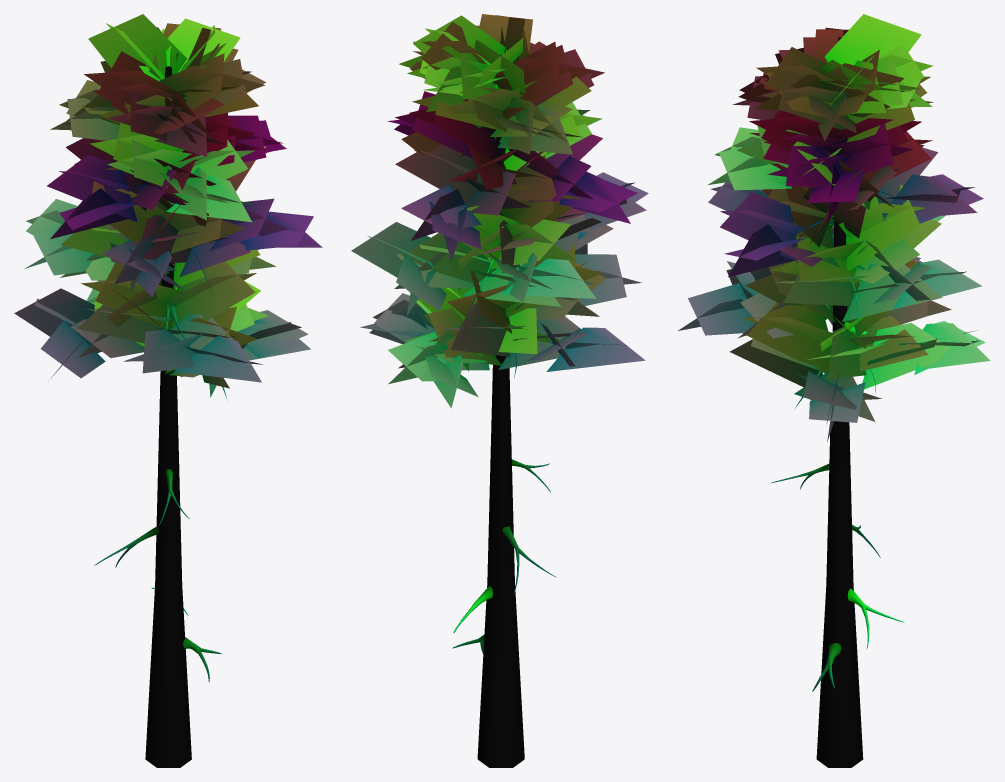
File: M_Pine_1_6.fbx
3 renders of one model, left to right at view 1: azimuth 30°, elevation 25°; view 2: azimuth 150°, elevation 25°; view 3: azimuth 270°, elevation 25°, orthographic.
Parts seen in each view (by area): view 1: Tree_6; view 2: Tree_6; view 3: Tree_6.
Boxes of the visible parts, x1=… form: Tree_6: x1=14, y1=14, x2=322, y2=767; Tree_6: x1=351, y1=14, x2=648, y2=767; Tree_6: x1=678, y1=14, x2=990, y2=767.
Bounding box in the file's own units: 1268 × 3286 × 1280.
